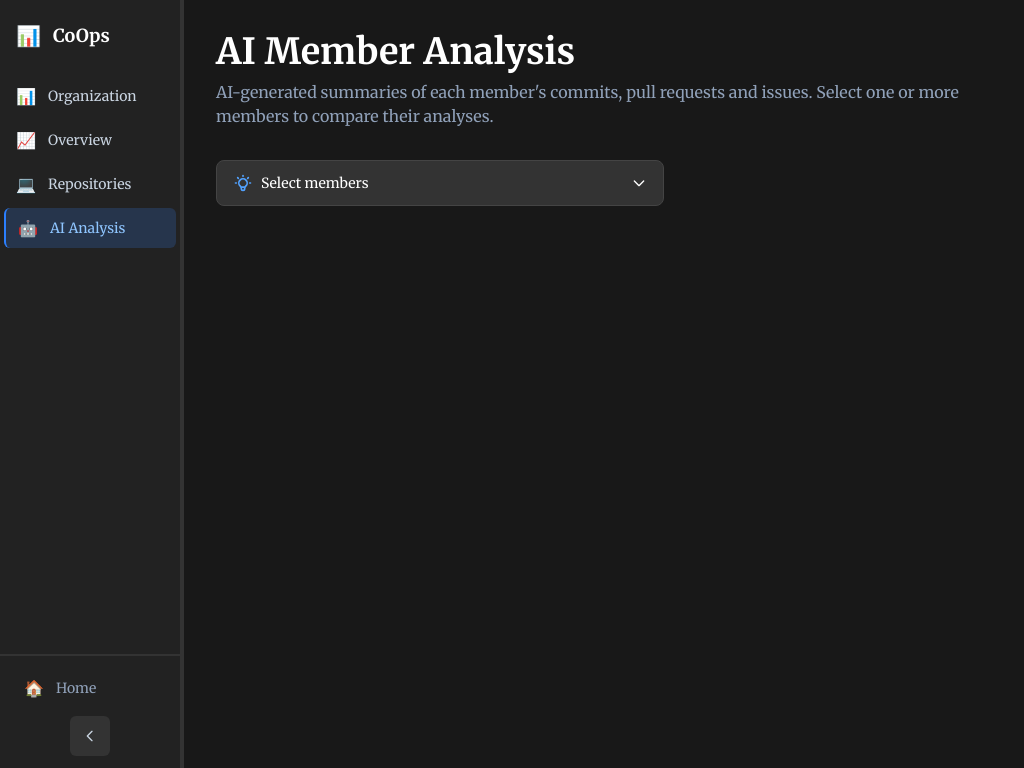
Test case: AIAnalysis page › renders the header, the member selector and highlights the sidebar entry
Check: the heading "AI Member Analysis" is shown, box [216, 29, 575, 74]
Note: The loaded member shows up in the selector: the data has arrived
Click the button "Select members": [315, 183] box [216, 160, 664, 206]
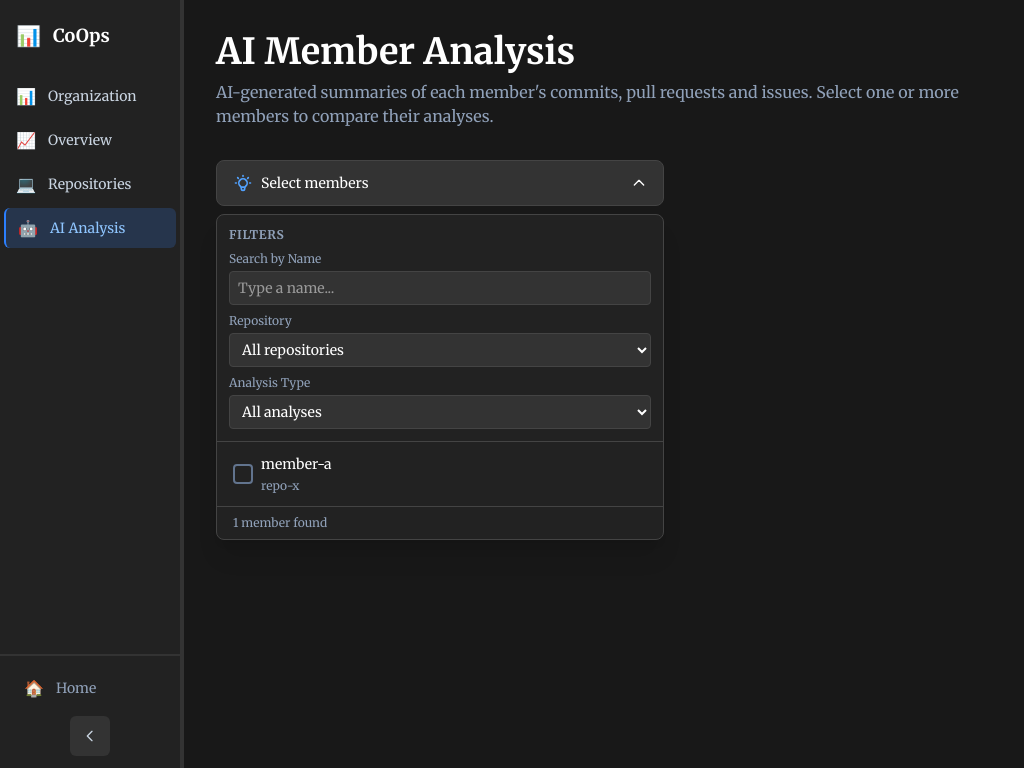
Check: the heading "member-a" is shown, box [261, 455, 332, 473]
